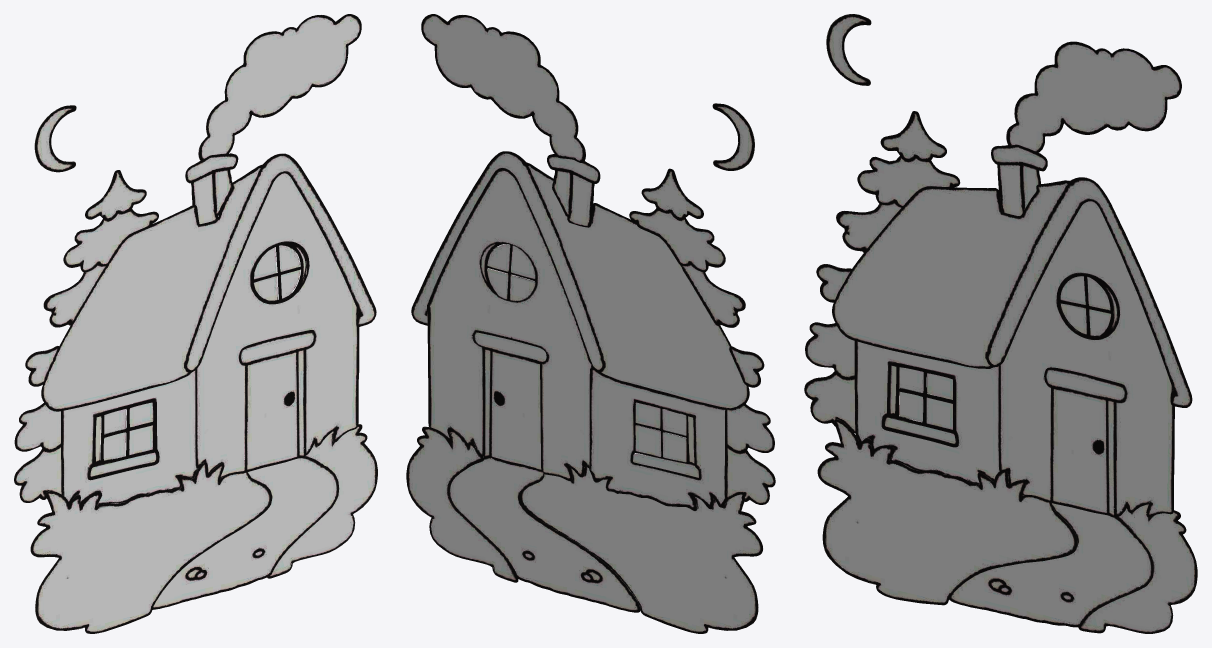
The model's file is IMG_8.fbx.
The picture shows the model from 3 angles, left to right: view 1: azimuth 30°, elevation 25°; view 2: azimuth 150°, elevation 25°; view 3: azimuth 330°, elevation 25°; orthographic projection. The views are drawn at different scales.
Visible parts, largest first — view 1: IMG_8, frame; view 2: IMG_8, frame; view 3: IMG_8, frame.
Boxes of the visible parts, box(x1,y1,x2,y2) form: IMG_8: box(14, 14, 377, 633); frame: box(87, 241, 309, 480); IMG_8: box(406, 14, 775, 633); frame: box(486, 243, 689, 464); IMG_8: box(804, 14, 1197, 633); frame: box(881, 272, 1120, 447).
Bounding box in the file's own units: 13.23 × 19.45 × 0.2398.
14 materials, 14 textured.
